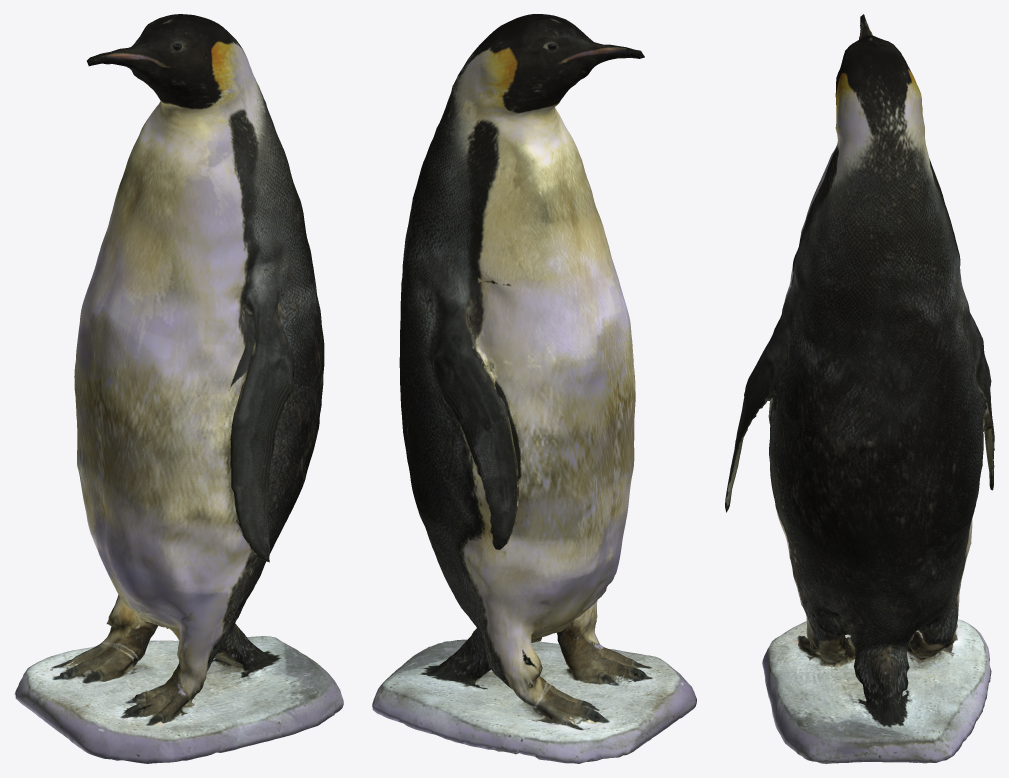
Rendered from model-aptenodytes-forsteri.glb.
3 renders of one model, left to right at view 1: azimuth 30°, elevation 25°; view 2: azimuth 150°, elevation 25°; view 3: azimuth 270°, elevation 25°, orthographic. The views are drawn at different scales.
Visible parts, largest first — view 1: Object_2; view 2: Object_2; view 3: Object_2.
Part boxes in pixels (<box>): Object_2: <box>14,14,343,763</box>; Object_2: <box>372,14,696,763</box>; Object_2: <box>725,14,994,763</box>.
Size of the model in its own units: 15.13 by 38.46 by 14.29.
1 material, 1 textured.
